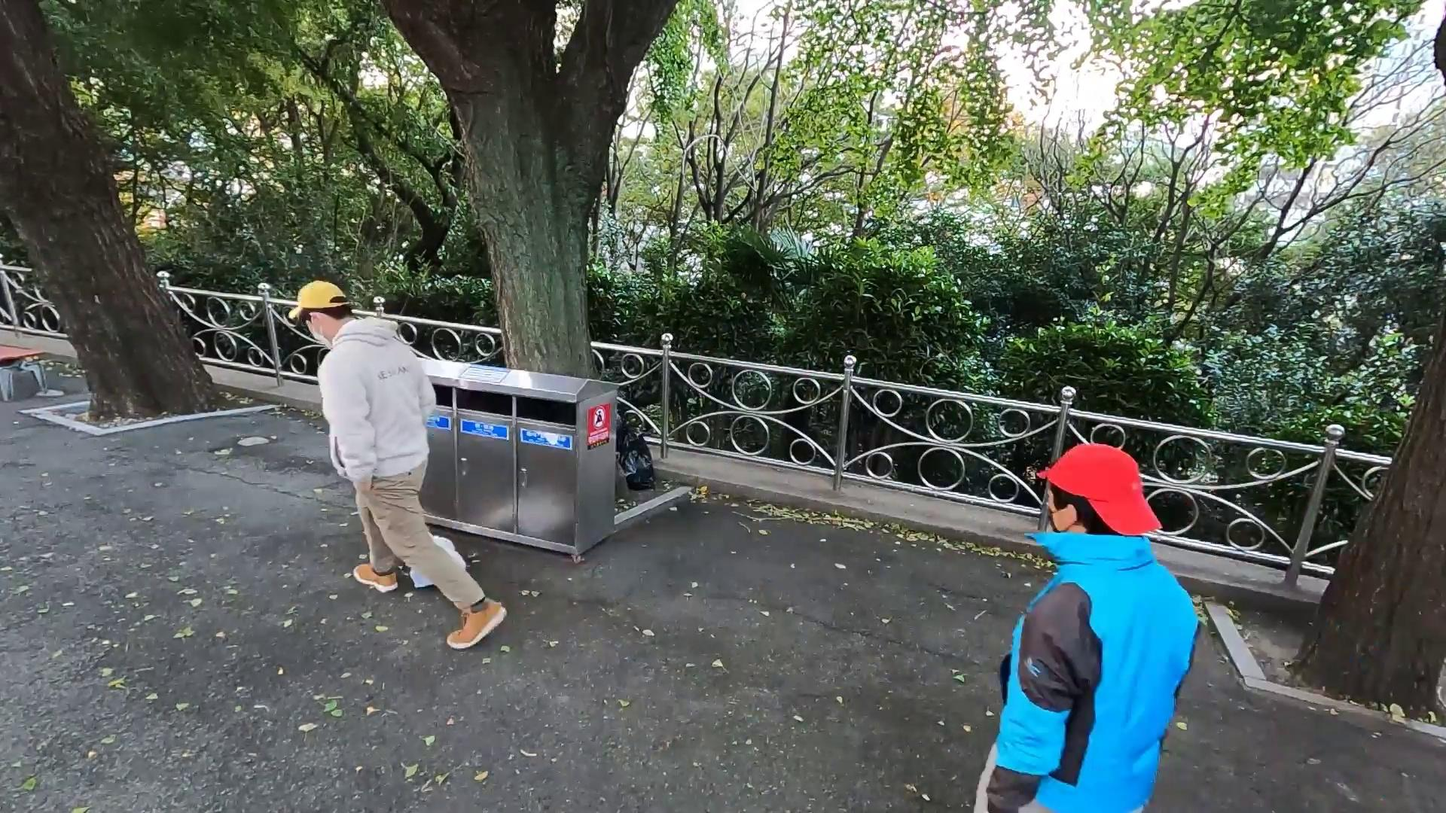person: (271, 273, 521, 662), (970, 431, 1207, 813)
trash: (401, 517, 472, 600), (615, 406, 667, 495)
